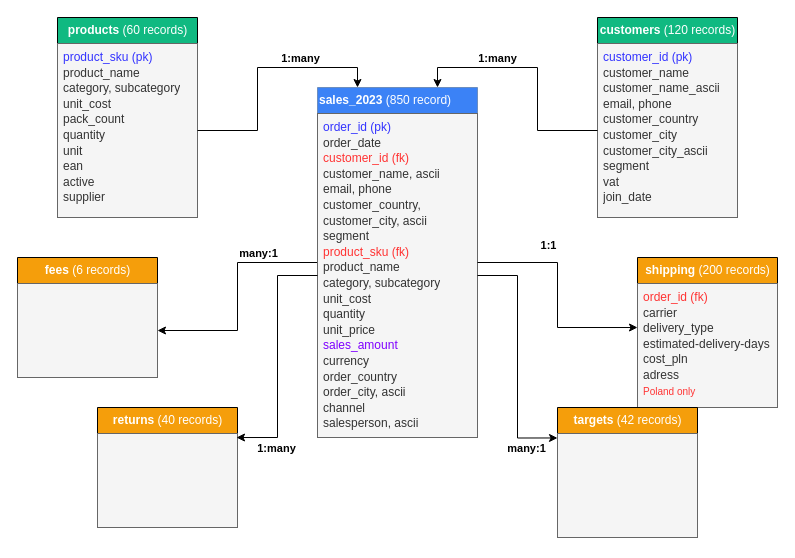
This 795x558 diagram has some shape labels left out. The shapes that lost their labels are listed below. From the top down, each one's centre as x and y in pixels, then its label:
At [87,330]: "channel country fee_type fee_value Poland only".
At [167,480]: "return_id (pk) return_date order_id (fk) reason status".
At [627,485]: "salesperson salesperson_ascii month month_number target_value note".
